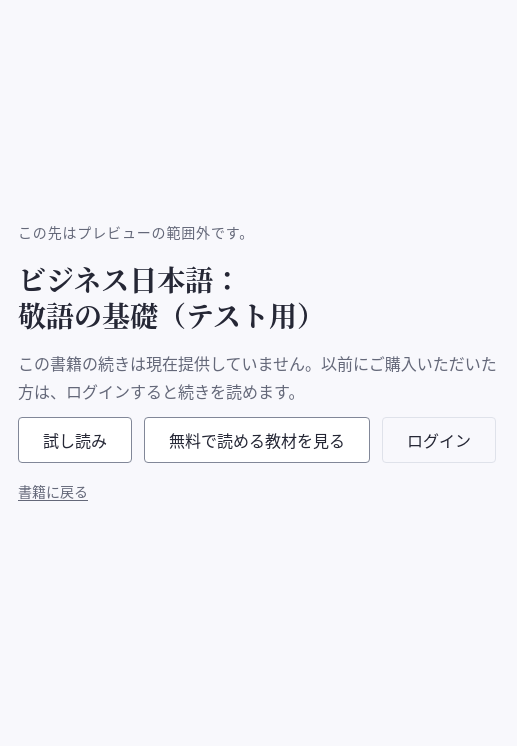
reader entitlement gate › denies a paid chapter beyond the preview boundary (no content flashes)
Expected: the text "この先はプレビューの範囲外です。" is shown, [18,220,254,245]
Expected: the text "この書籍の続きは現在提供していません。以前にご購入いただいた方は、ログインすると続きを読めます。" is shown, [18,349,498,405]
Click the button "ログイン". click: (439, 440)
box: [382,417,496,463]
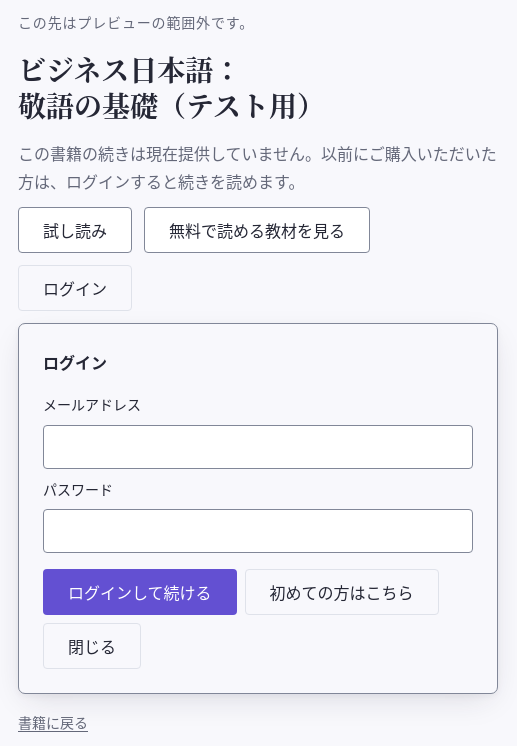
Expected: the field labelled "メールアドレス" is shown, [43,425,473,469]
